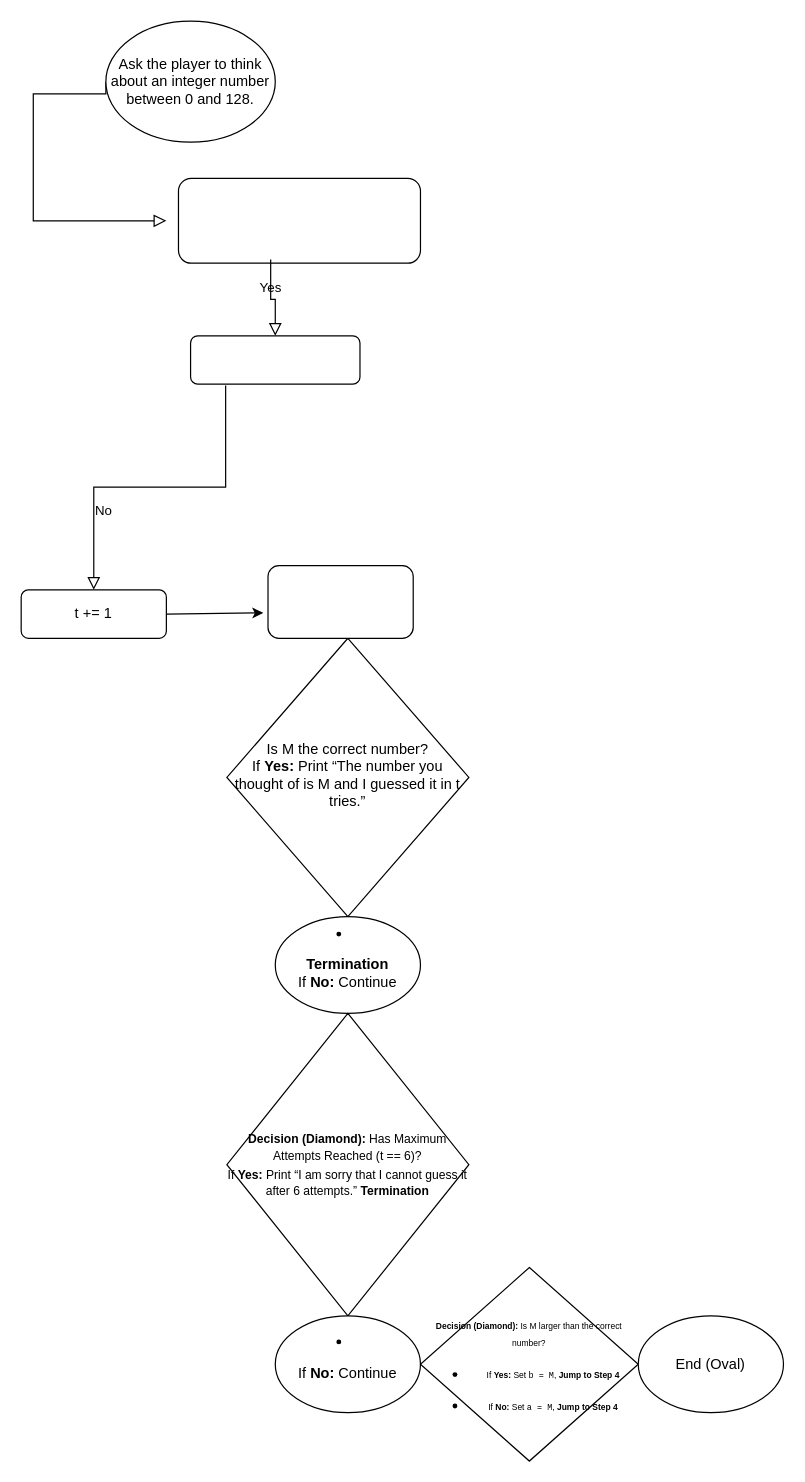
This 805x1482 diagram has some shape labels left out. The box of each missing label's shape, as (x1, y1, x2, y2) in pixels:
Calculate Midpoint (M) M = (a + b) / 2: (189, 335, 360, 384)
Increment Attempt Counter t += 1: (267, 564, 413, 638)
Initialize Variables a = 0 b = 128 t = 0: (177, 177, 420, 263)
